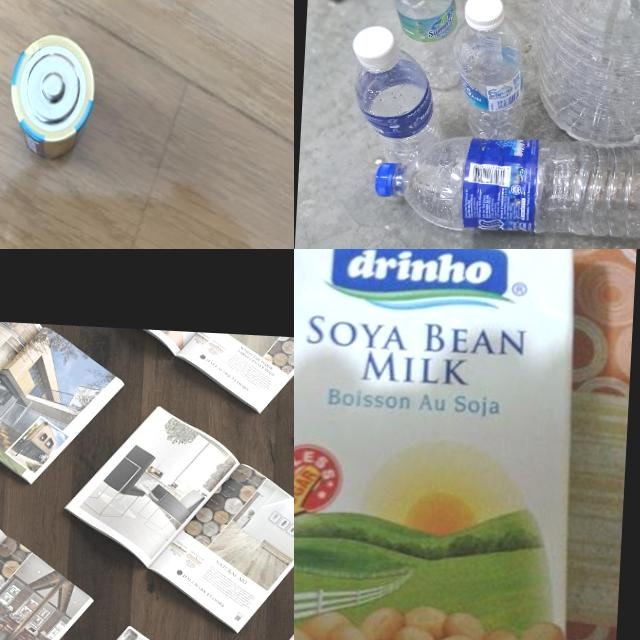bateria: (1, 27, 101, 165)
caixinha: (294, 249, 598, 640)
garrafa plástica: (395, 133, 640, 243), (530, 0, 640, 152), (348, 50, 448, 166), (450, 16, 530, 138), (387, 0, 464, 89)
papel: (58, 398, 294, 639), (0, 316, 131, 492), (0, 475, 103, 640), (118, 329, 294, 421)
tampa plástica: (352, 24, 399, 70), (463, 0, 504, 28), (373, 162, 398, 198)
